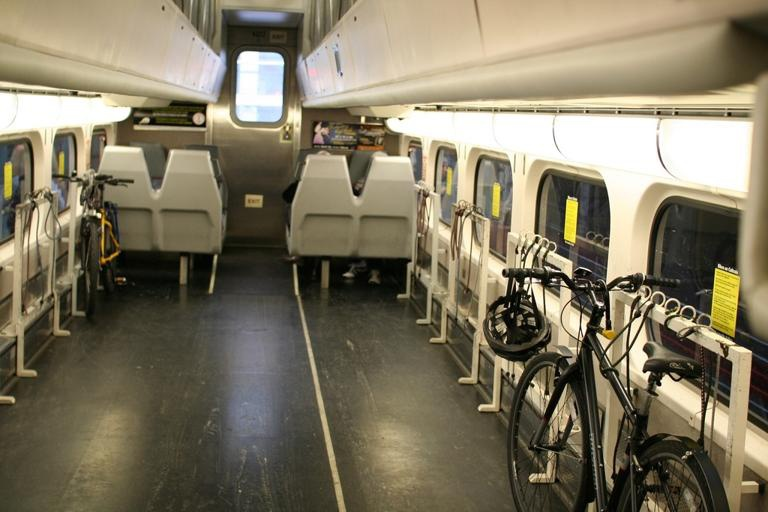non-vehicle: (502, 266, 730, 512), (52, 169, 134, 317)
